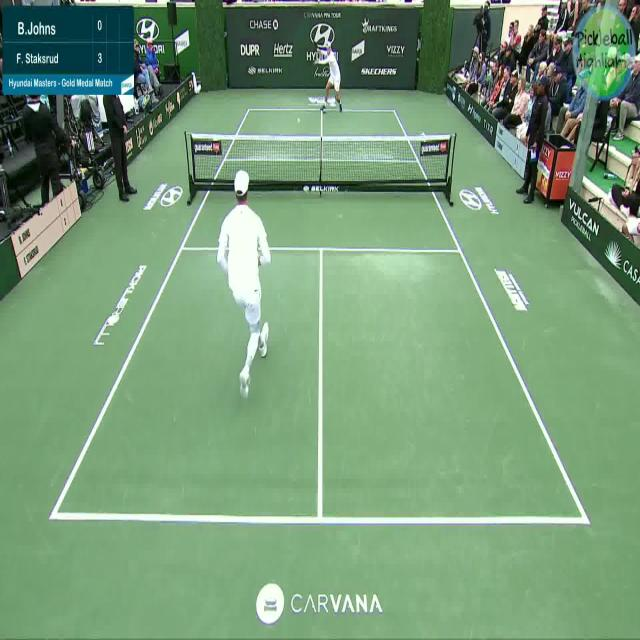Court: (52, 110, 586, 522)
ball: (292, 114, 304, 127)
